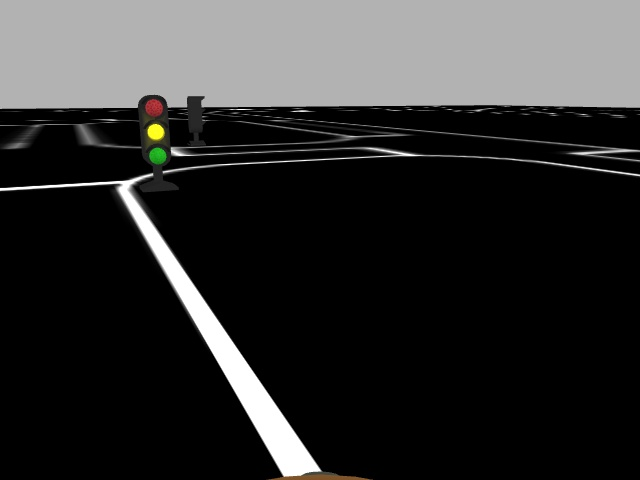yellow_light: (140, 94, 170, 166)
